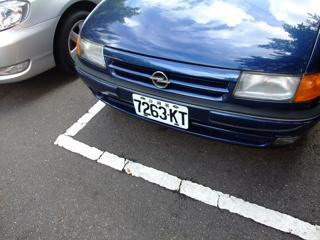plate: (131, 92, 191, 131)
